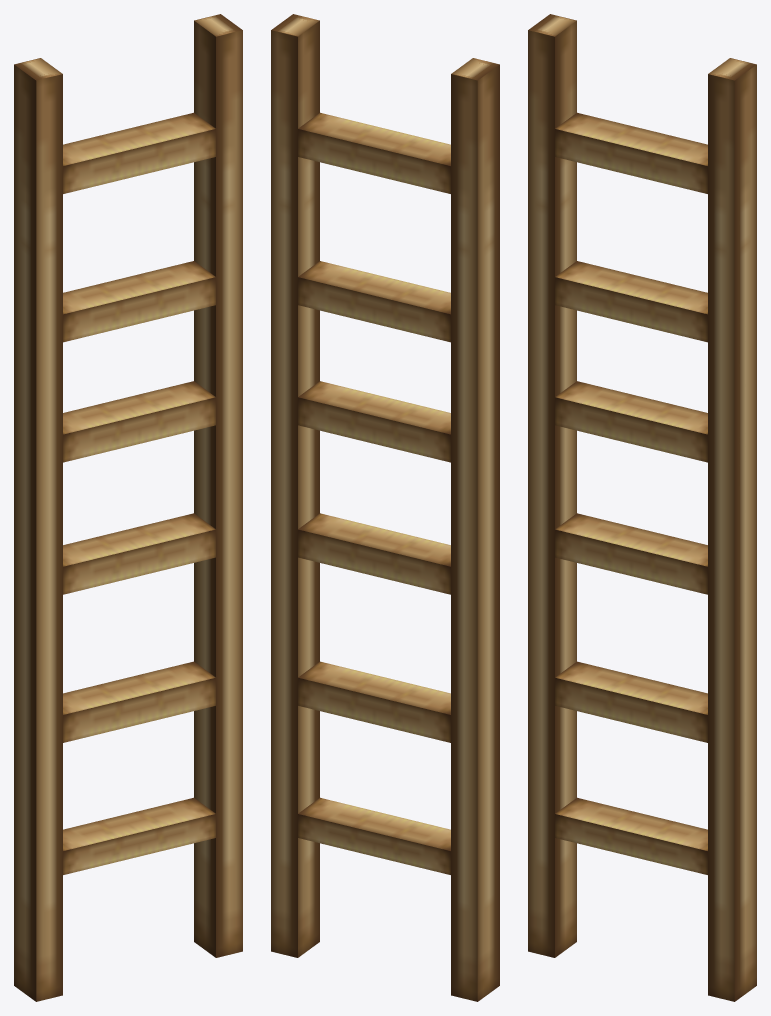
File: Poly_Ladder_02.obj
3 renders of one model, left to right at view 1: azimuth 30°, elevation 25°; view 2: azimuth 150°, elevation 25°; view 3: azimuth 330°, elevation 25°, orthographic.
Visible parts, largest first — view 1: Cube; view 2: Cube; view 3: Cube.
Boxes of the visible parts, x1,y1,x2,y2 form: Cube: [14, 14, 242, 1001]; Cube: [271, 14, 499, 1001]; Cube: [528, 14, 756, 1001].
Size of the model in its own units: 0.54 by 2.3 by 0.1.
Materials: 1 (1 with a texture image).
